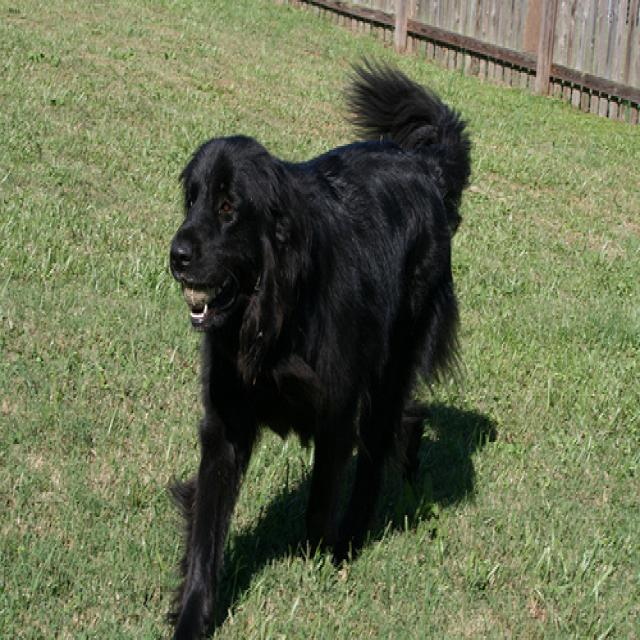dog-newfoundland: (160, 50, 480, 636)
